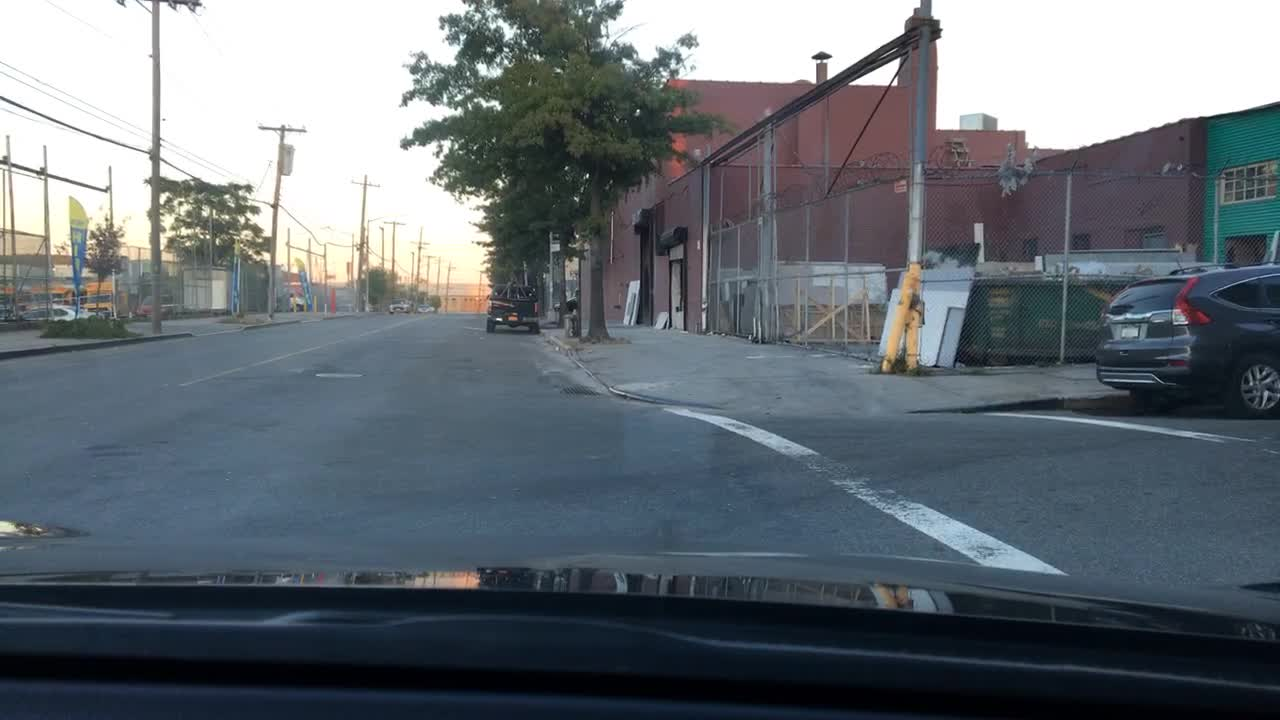car: (1094, 260, 1277, 416), (21, 303, 75, 322), (134, 292, 174, 316), (283, 287, 310, 310), (75, 306, 111, 321), (554, 294, 580, 312), (387, 298, 413, 313), (0, 306, 22, 322), (416, 303, 436, 315)
traffic sign: (549, 232, 561, 251)
truck: (483, 281, 538, 332), (79, 281, 116, 310), (32, 286, 75, 304), (0, 283, 30, 307)
